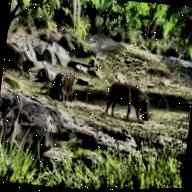boar: (90, 75, 155, 128), (44, 49, 84, 111)
